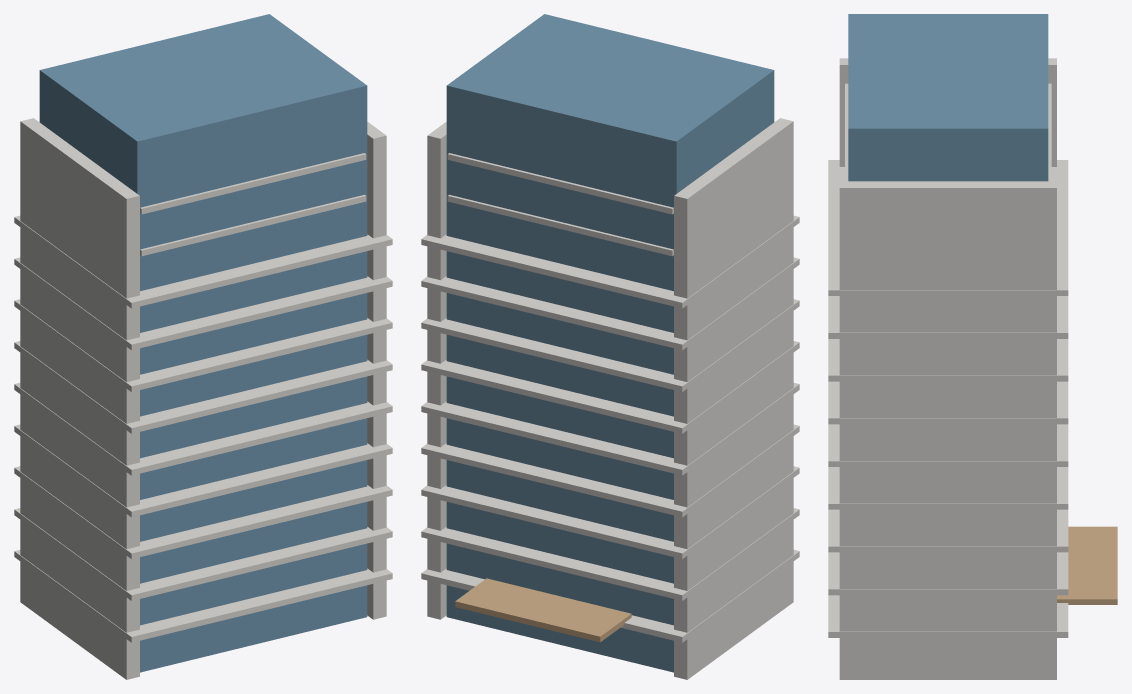
The model's file is Tower_TwinTerrace.fbx.
The picture shows the model from 3 angles, left to right: view 1: azimuth 30°, elevation 25°; view 2: azimuth 150°, elevation 25°; view 3: azimuth 270°, elevation 25°; orthographic projection. The views are drawn at different scales.
Parts seen in each view (by area): view 1: Cube, Cube.013, Cube.014, Cube.006, Cube.007, Cube.008, Cube.009, Cube.003, Cube.004, Cube.005, Cube.001, Cube.002 (+2 smaller); view 2: Cube, Cube.013, Cube.014, Cube.015, Cube.006, Cube.007, Cube.008, Cube.009, Cube.003, Cube.004, Cube.005, Cube.002 (+3 smaller); view 3: Cube.014, Cube, Cube.009, Cube.015, Cube.002, Cube.003, Cube.006, Cube.004, Cube.007, Cube.008, Cube.001, Cube.005 (+2 smaller).
Part boxes in pixels (box(x1,y1,x2,y2)): Cube: box(39, 14, 367, 672); Cube.013: box(20, 118, 139, 679); Cube.014: box(367, 122, 386, 619); Cube.006: box(14, 341, 392, 433); Cube.007: box(14, 299, 392, 391); Cube.008: box(14, 257, 392, 350); Cube.009: box(14, 215, 392, 308); Cube.003: box(14, 466, 392, 559); Cube.004: box(14, 424, 392, 517); Cube.005: box(14, 383, 392, 475); Cube.001: box(14, 550, 392, 642); Cube.002: box(14, 508, 392, 600); Cube: box(446, 14, 774, 672); Cube.013: box(674, 118, 793, 679); Cube.014: box(427, 122, 446, 619); Cube.015: box(455, 578, 631, 642); Cube.006: box(421, 341, 799, 433); Cube.007: box(421, 299, 799, 391); Cube.008: box(421, 257, 799, 350); Cube.009: box(421, 215, 799, 308); Cube.003: box(421, 466, 799, 559); Cube.004: box(421, 424, 799, 517); Cube.005: box(421, 383, 799, 475); Cube.002: box(421, 508, 799, 600); Cube.014: box(839, 181, 1056, 679); Cube: box(848, 14, 1048, 181); Cube.009: box(828, 160, 1068, 295); Cube.015: box(1057, 526, 1117, 604); Cube.002: box(828, 552, 1068, 595); Cube.003: box(828, 509, 1068, 552); Cube.006: box(828, 381, 1068, 424); Cube.004: box(828, 467, 1068, 509); Cube.007: box(828, 339, 1068, 381); Cube.008: box(828, 296, 1068, 338); Cube.001: box(828, 595, 1068, 637); Cube.005: box(828, 424, 1068, 466).
Bounding box in the file's own units: 21.6 × 42 × 20.25.
